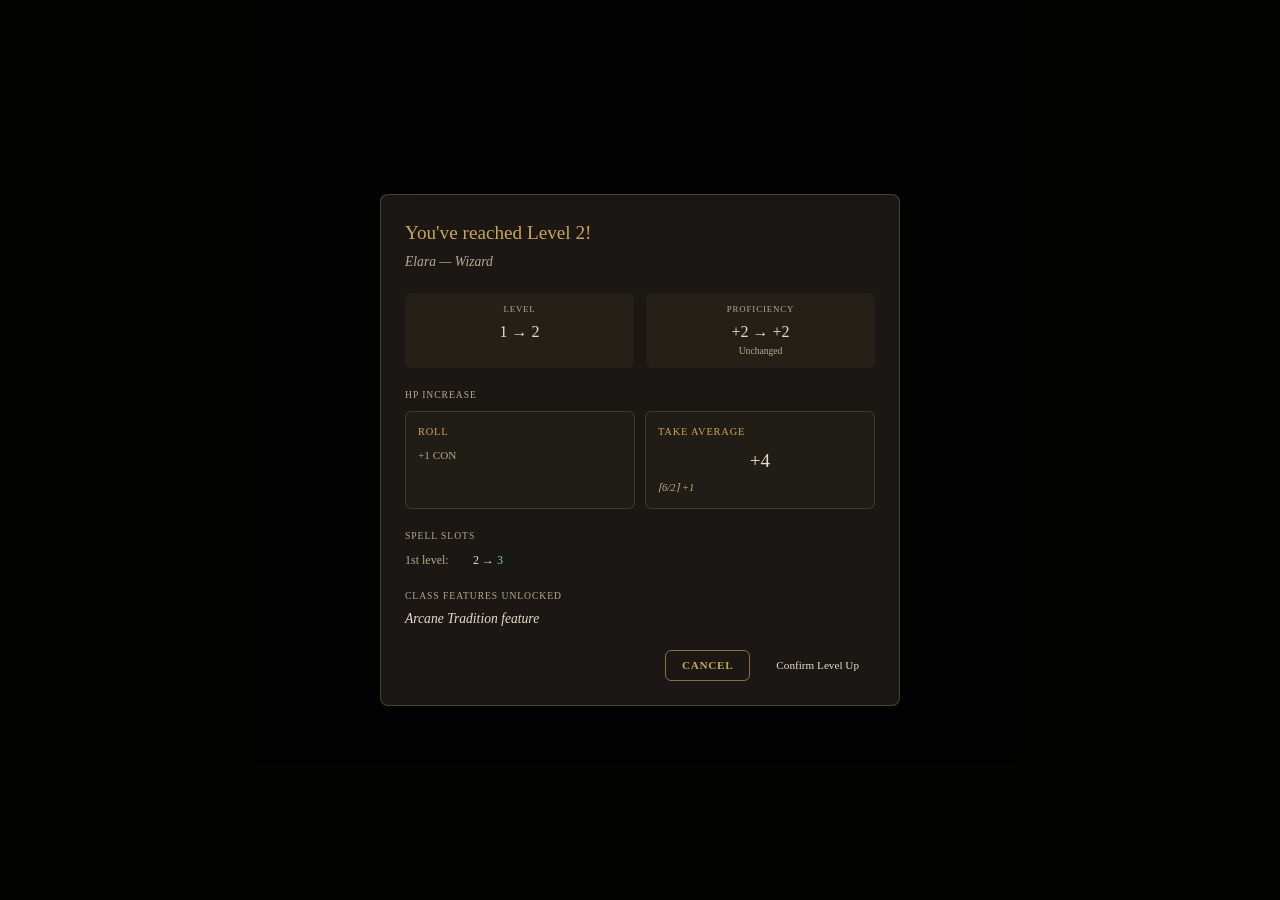
Scenario: LevelUpModal (DIN-28) › shows error message on API failure
The width and height of the screenshot is (1280, 900).
Click the element with test id "hp-choice-roll" at point(520, 460), box [405,411,635,509]
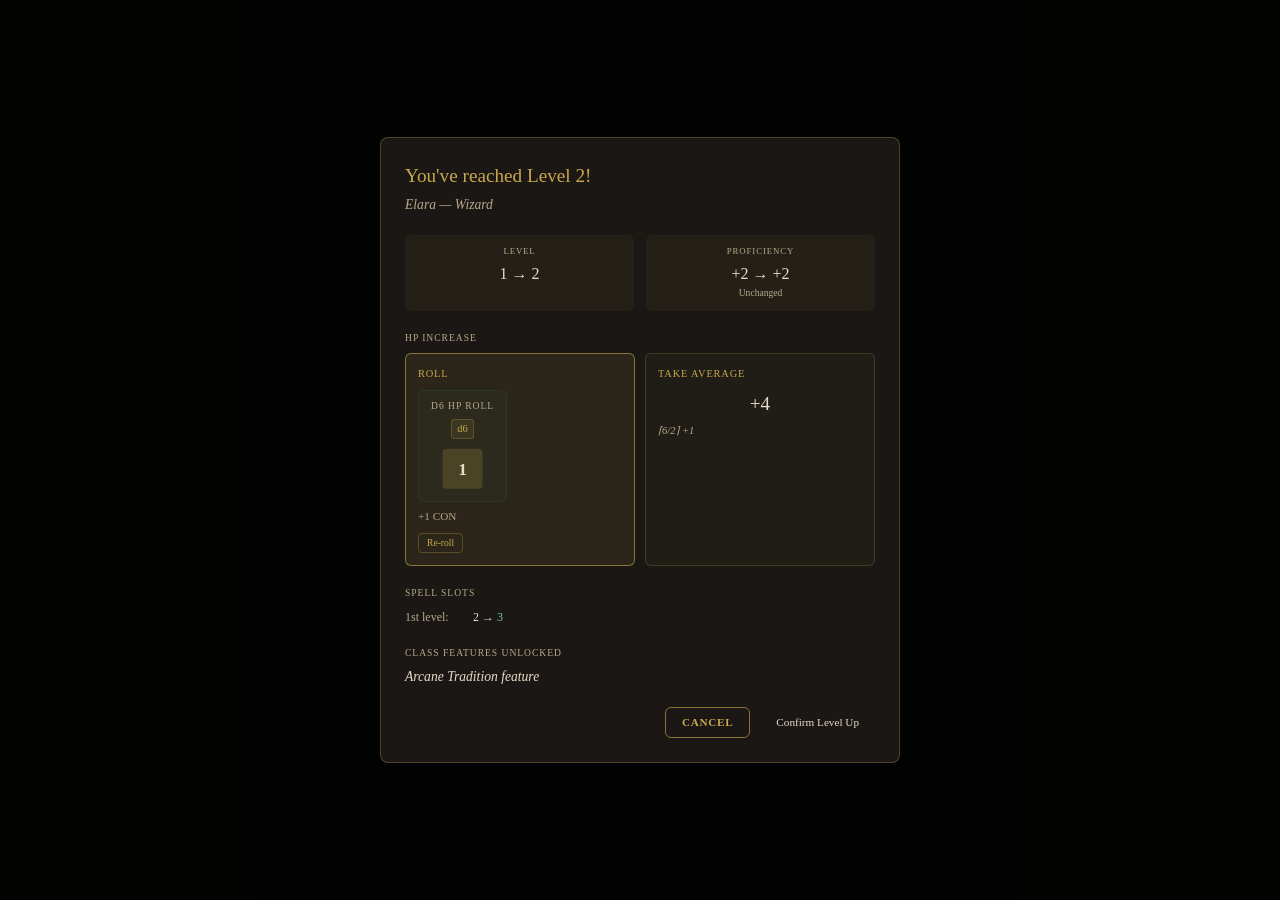
Click the button "Confirm Level Up" at point(818, 723), box [760,707,875,738]
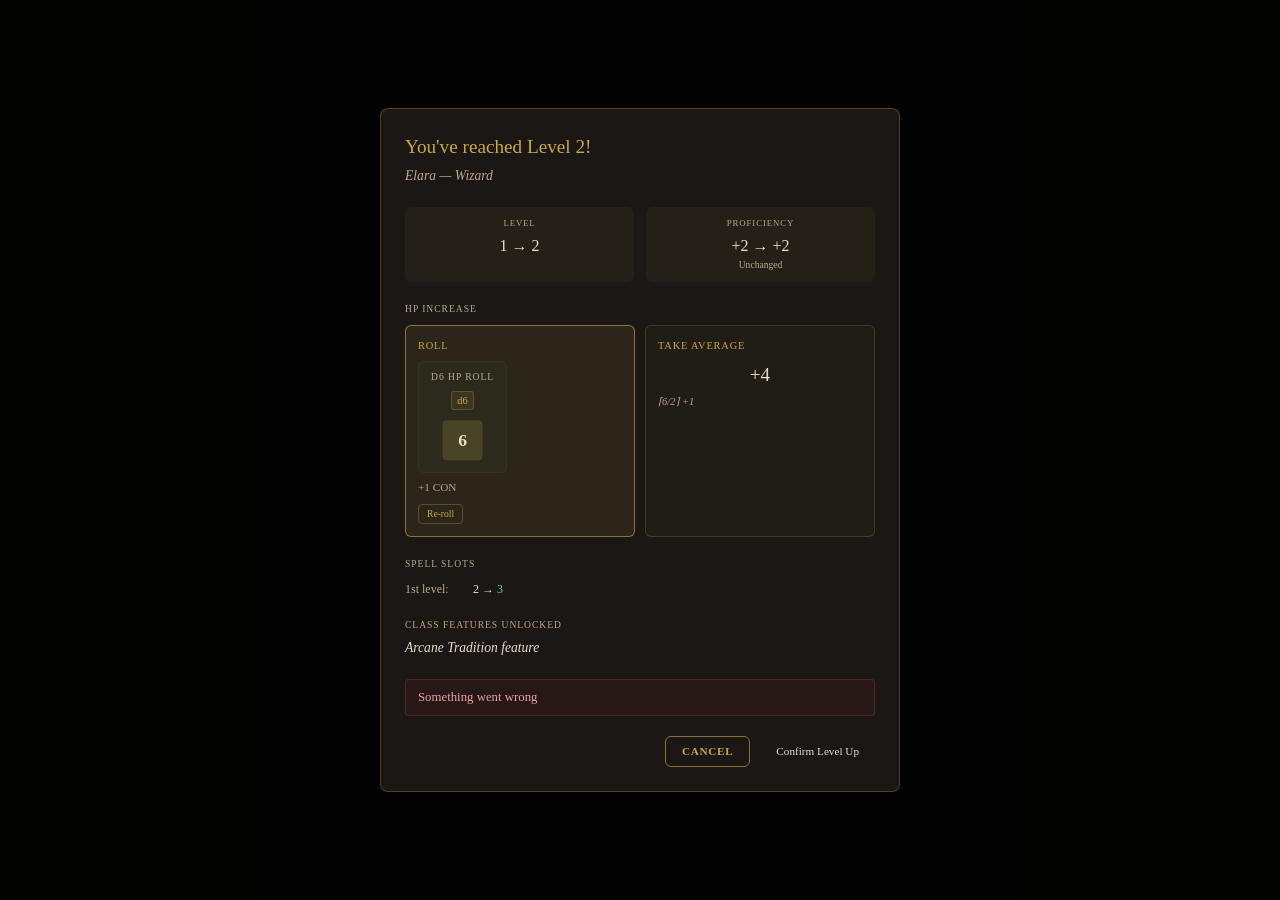
Expected: the text "Something went wrong" is shown, [405,679,875,716]
